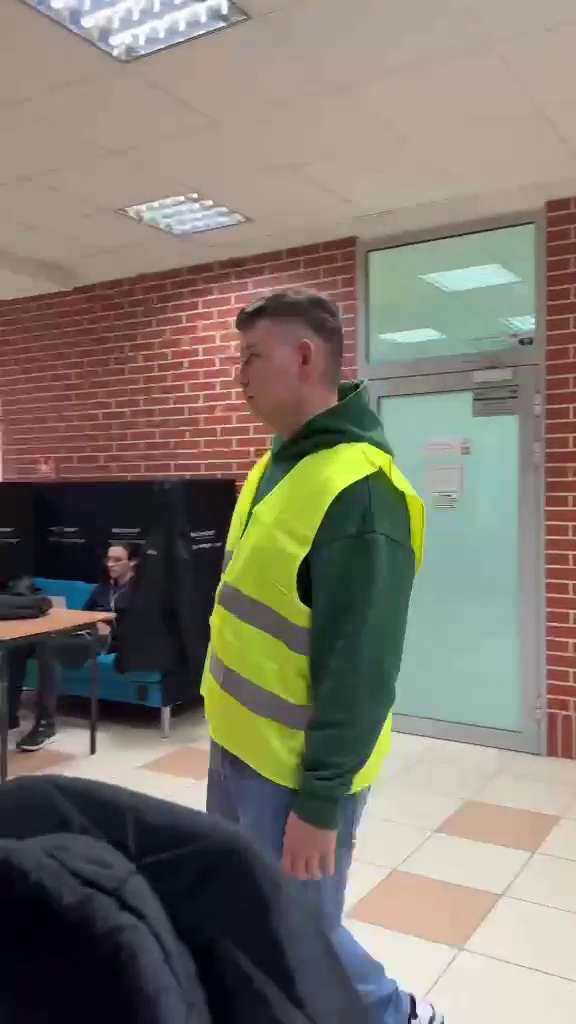no vest: (10, 525, 146, 743)
vest: (193, 276, 437, 1012)
